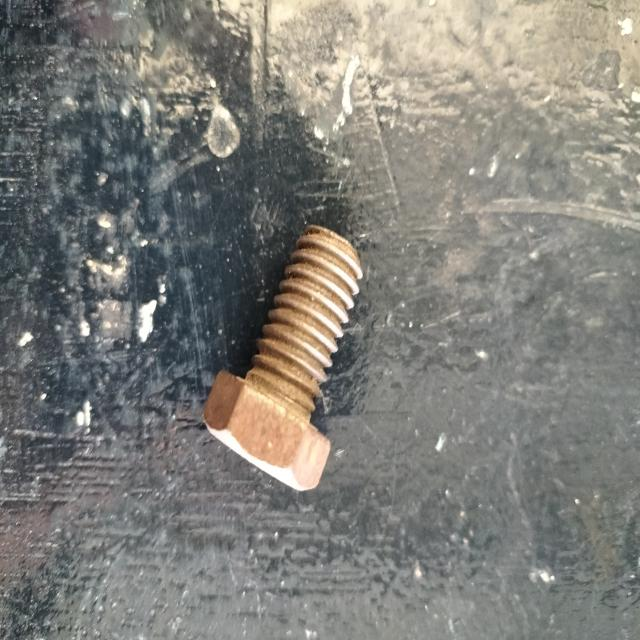bolt: (203, 224, 363, 492)
